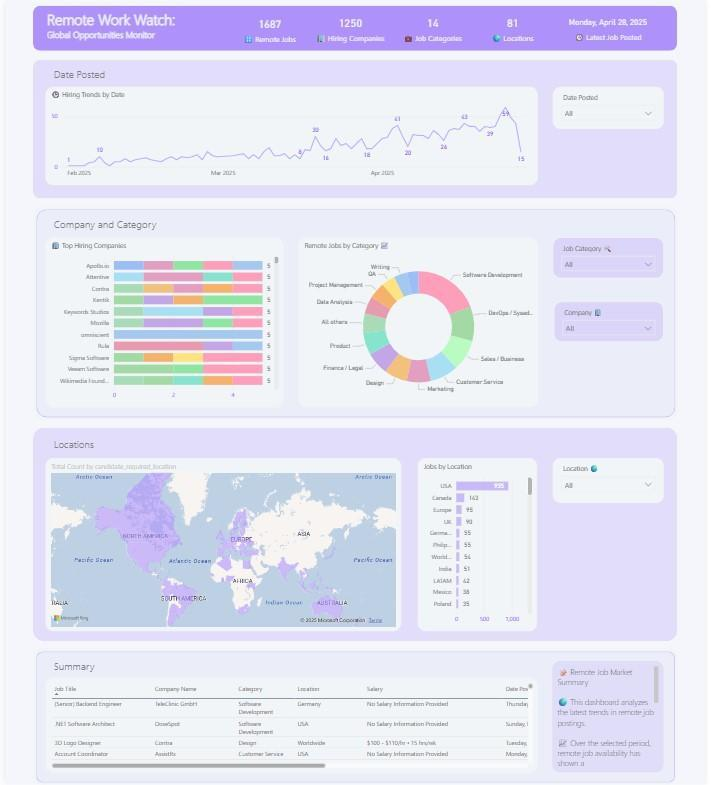

The page's visual inventory and layout, read from the dashboard file:
{"tool":"powerbi","page":{"name":"Page 1","canvas":[1280,1440],"ordinal":0},"visuals":[{"type":"shape","box":[50,1190,1180,250],"z":0},{"type":"shape","box":[50,785.7,1181.4,391.4],"z":1000},{"type":"shape","box":[50,378.8,1181.2,391.2],"z":2000},{"type":"shape","box":[50,110.9,1180,254.5],"z":3000},{"type":"shape","box":[50,12.5,1180,82.5],"z":4000},{"type":"card","fields":{"Values":["Count(remote-jobs.company_name)"]},"box":[557.3,14.5,149.1,78.2],"z":5000},{"type":"card","fields":{"Values":["Count(remote-jobs.candidate_required_location)"]},"box":[856.4,15.5,146.4,77.3],"z":6000},{"type":"card","fields":{"Values":["Count(remote-jobs.category)"]},"box":[706.4,14.5,150,78.2],"z":7000},{"type":"card","fields":{"Values":["Max(remote-jobs.publication_date)"]},"box":[1002.5,15,202.5,77.5],"z":8000},{"type":"donutChart","title":"Remote Jobs by Category 📈","fields":{"Category":["remote-jobs.category"],"Y":["CountNonNull(remote-jobs.title)"]},"box":[535,436.2,438.8,310],"z":9000},{"type":"barChart","title":"🏢 Top Hiring Companies","fields":{"Category":["remote-jobs.company_name"],"Y":["remote-jobs.Total Count"],"Series":["remote-jobs.category"]},"box":[71.7,436.7,436.7,311.7],"z":10000},{"type":"slicer","fields":{"Values":["remote-jobs.category"]},"box":[1001.2,436.2,203.8,75],"z":11000},{"type":"slicer","fields":{"Values":["remote-jobs.candidate_required_location"]},"box":[1002.5,840,203.8,82.5],"z":12000},{"type":"slicer","fields":{"Values":["remote-jobs.company_name"]},"box":[1003.8,555,201.2,73.8],"z":13000},{"type":"tableEx","fields":{"Values":["remote-jobs.title","remote-jobs.company_name","remote-jobs.category","remote-jobs.candidate_required_location","remote-jobs.salary","remote-jobs.publication_date","remote-jobs.url"]},"box":[71.2,1242.5,902.5,175],"z":14000},{"type":"card","fields":{"Values":["remote-jobs.Total Count"]},"box":[410.9,16.4,146.4,77.3],"z":15000},{"type":"filledMap","fields":{"Category":["remote-jobs.candidate_required_location"]},"box":[71.2,840,651.2,317.5],"z":16000},{"type":"textbox","box":[70.9,13.5,253.1,81.9],"z":17000},{"type":"lineChart","title":"🕒 Hiring Trends by Date","fields":{"Category":["DateTable.Date"],"Y":["remote-jobs.Total Count"]},"box":[71.2,161.2,902.5,180],"z":18000},{"type":"clusteredBarChart","title":"Jobs by Location","fields":{"Category":["remote-jobs.candidate_required_location"],"Y":["Count(remote-jobs.id)"]},"box":[755,840,218.8,317.5],"z":19000},{"type":"slicer","fields":{"Values":["DateTable.YearMonth"]},"box":[1001.2,161.2,203.8,77.5],"z":20000},{"type":"textbox","box":[1000,1212.5,206.2,206.2],"z":21000},{"type":"textbox","box":[82.5,393.8,317.5,42.5],"z":22000},{"type":"textbox","box":[82.5,797.5,327.5,42.5],"z":23000},{"type":"textbox","box":[82.5,1203.8,337.5,48.8],"z":24000},{"type":"textbox","box":[82.5,120,327.5,41.2],"z":25000}]}

Visuals, with their boxes in screenshot pixels (x1, y1, x2, y2), scaled from the page's 1280x1440 canvas onto the 711x785 screenshot:
shape: bbox=(28, 649, 683, 784)
shape: bbox=(28, 428, 684, 642)
shape: bbox=(28, 206, 684, 420)
shape: bbox=(28, 60, 683, 199)
shape: bbox=(28, 7, 683, 52)
card - Count(remote-jobs.company_name): bbox=(310, 8, 392, 51)
card - Count(remote-jobs.candidate_required_location): bbox=(476, 8, 557, 51)
card - Count(remote-jobs.category): bbox=(392, 8, 476, 51)
card - Max(remote-jobs.publication_date): bbox=(557, 8, 669, 50)
"Remote Jobs by Category 📈" donutChart: bbox=(297, 238, 541, 407)
"🏢 Top Hiring Companies" barChart: bbox=(40, 238, 282, 408)
slicer - remote-jobs.category: bbox=(556, 238, 669, 279)
slicer - remote-jobs.candidate_required_location: bbox=(557, 458, 670, 503)
slicer - remote-jobs.company_name: bbox=(558, 303, 669, 343)
tableEx - remote-jobs.title x remote-jobs.company_name: bbox=(40, 677, 541, 773)
card - remote-jobs.Total Count: bbox=(228, 9, 310, 51)
filledMap - remote-jobs.candidate_required_location: bbox=(40, 458, 401, 631)
textbox: bbox=(39, 7, 180, 52)
"🕒 Hiring Trends by Date" lineChart: bbox=(40, 88, 541, 186)
"Jobs by Location" clusteredBarChart: bbox=(419, 458, 541, 631)
slicer - DateTable.YearMonth: bbox=(556, 88, 669, 130)
textbox: bbox=(555, 661, 670, 773)
textbox: bbox=(46, 215, 222, 238)
textbox: bbox=(46, 435, 228, 458)
textbox: bbox=(46, 656, 233, 683)
textbox: bbox=(46, 65, 228, 88)
